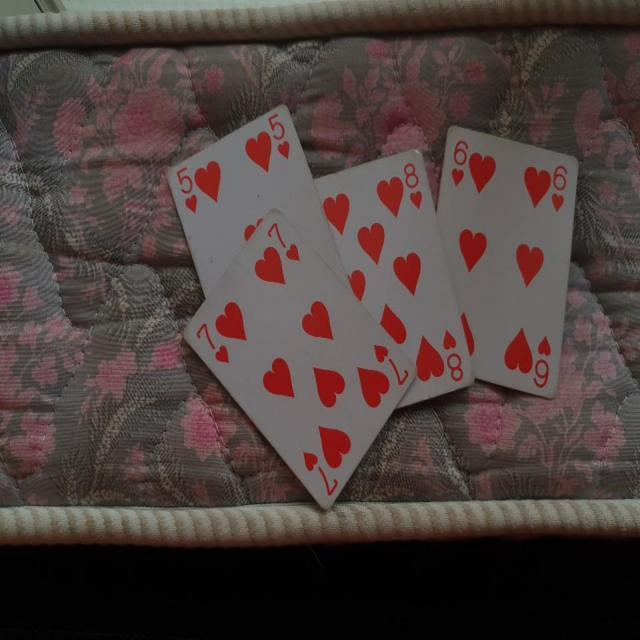5 of hearts: (162, 100, 368, 316)
6 of hearts: (433, 119, 588, 402)
7 of hearts: (169, 205, 417, 514)
8 of hearts: (311, 145, 478, 418)
